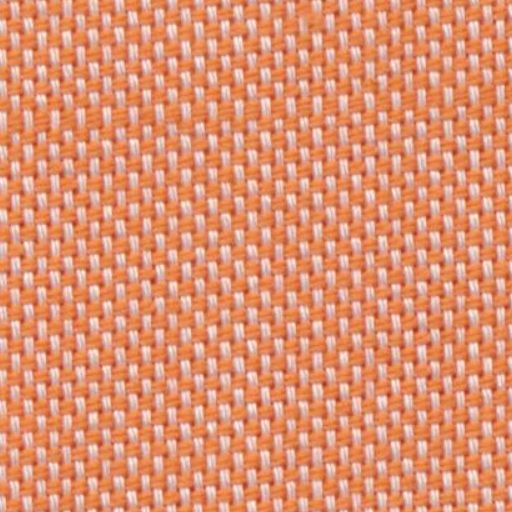TuoSha: (8, 75, 497, 152)
